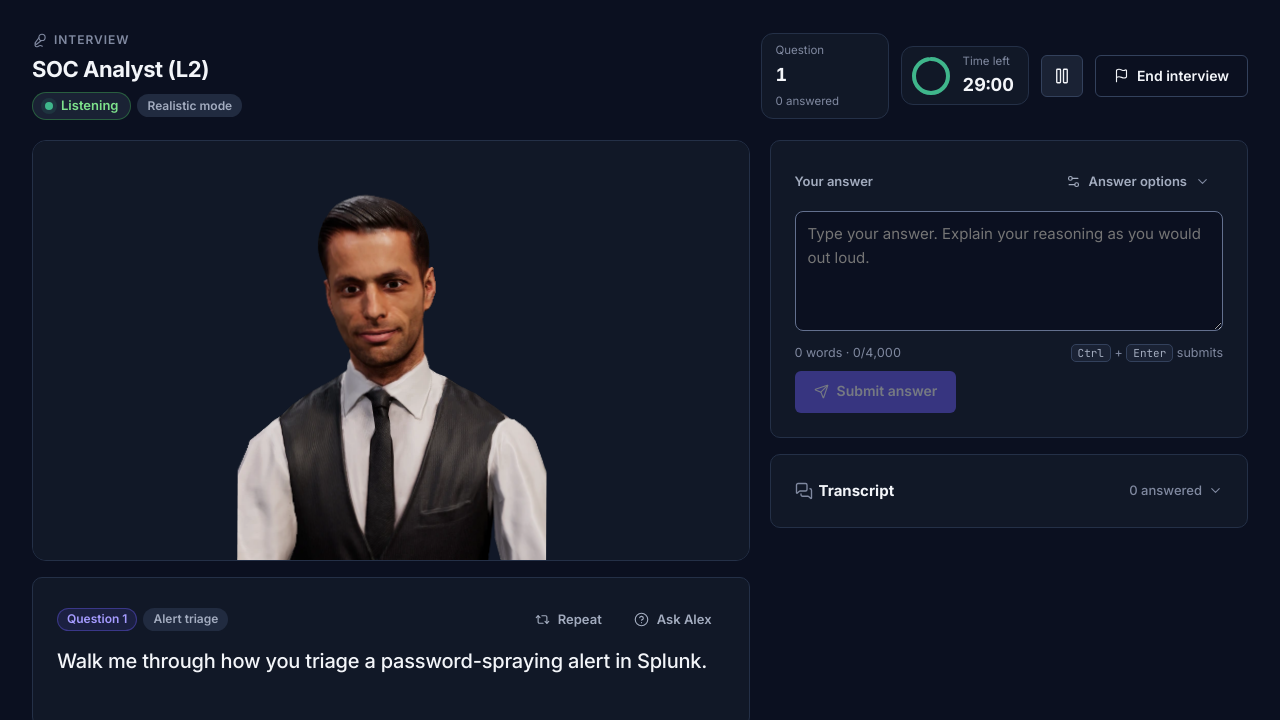
Scenario: interview room › submits once with a stable idempotency key and applies the next question
// One paste, not 30 keystrokes: each keystroke re-renders the whole room, which is slow under load (TR-63).
Click the text box labelled "Your answer": (1009, 270) [795, 210, 1223, 330]
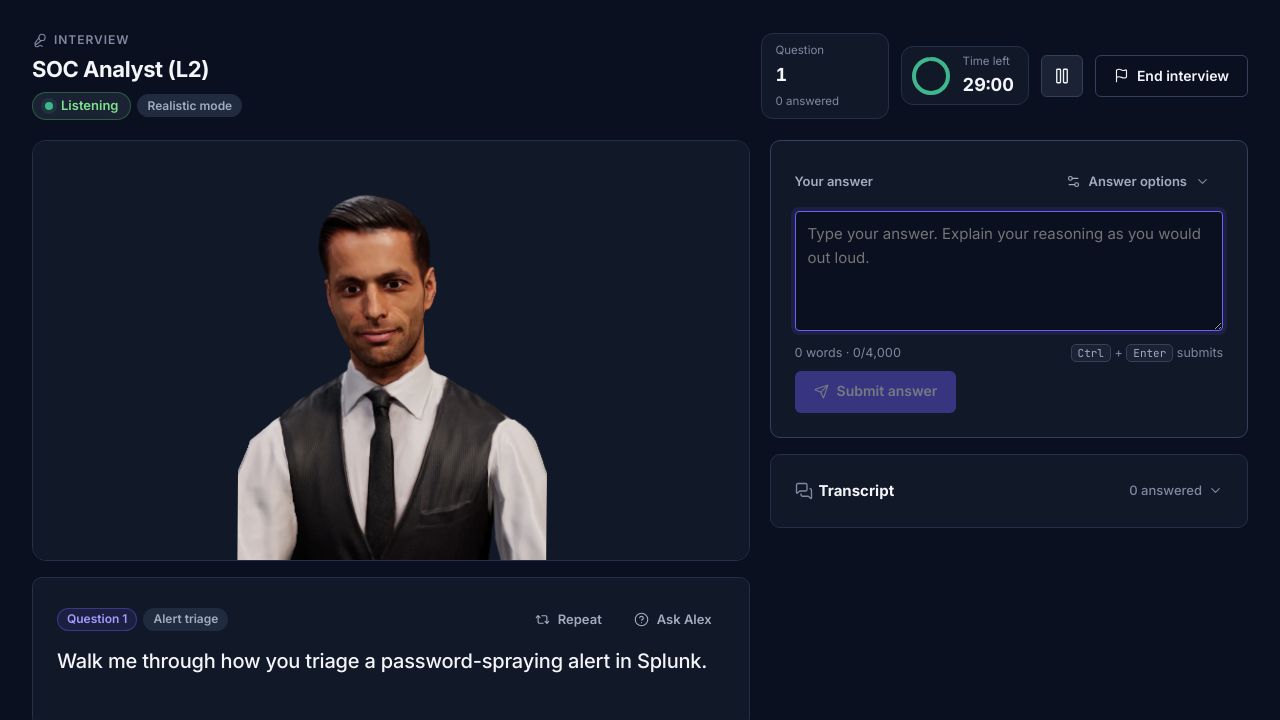
Type keys "I would scope the alert first."
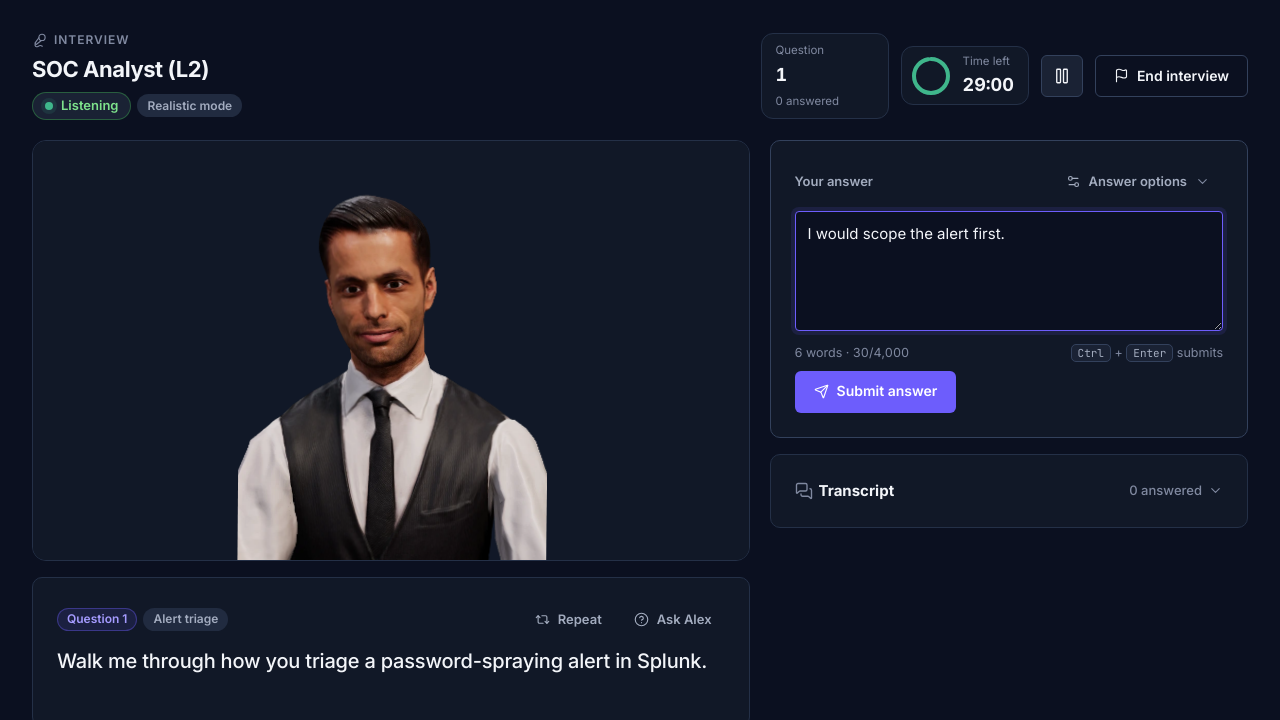
Click the button "Submit answer": (876, 392) [795, 370, 956, 412]
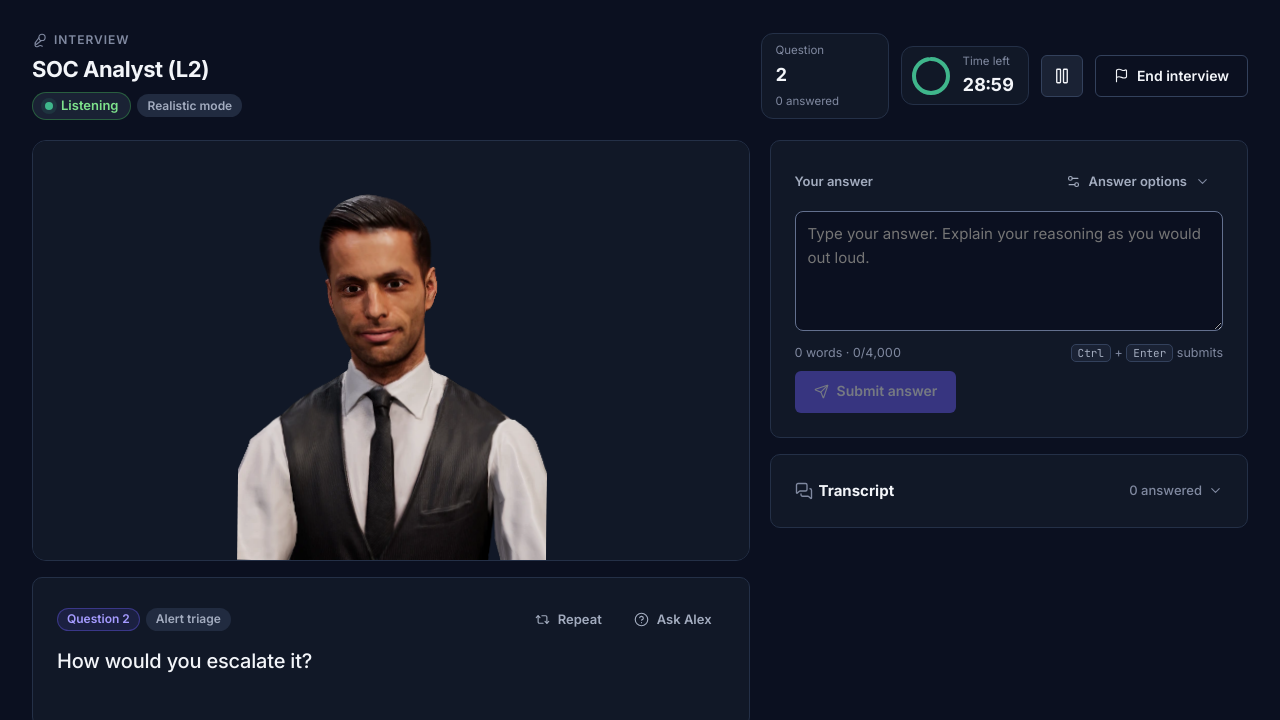
Expected: the text "How would you escalate it?" is shown, [57, 649, 312, 673]
